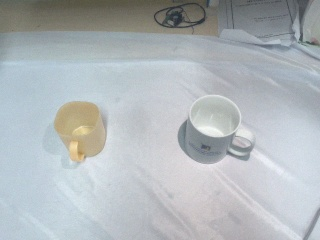cup: (178, 94, 242, 165), (53, 99, 108, 162), (188, 94, 242, 139)
